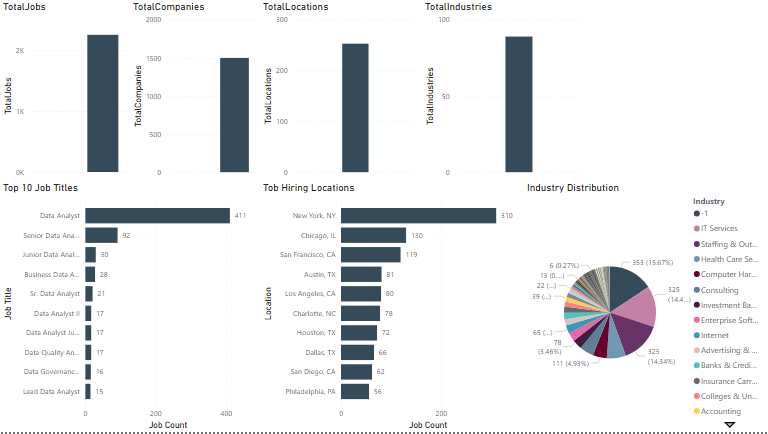

This screenshot's page, from the dashboard's own definition file:
{"tool":"powerbi","page":{"name":"Page 1","canvas":[1280,720],"ordinal":0},"visuals":[{"type":"cardVisual","box":[10,0,280,280],"z":0},{"type":"clusteredColumnChart","fields":{"Y":["Sheet1.TotalJobs"]},"box":[0,0,300.7,300.7],"z":1000},{"type":"clusteredColumnChart","fields":{"Y":["Sheet1.TotalCompanies"]},"box":[216.6,0,294,301.1],"z":2000},{"type":"clusteredColumnChart","fields":{"Y":["Sheet1.TotalLocations"]},"box":[433.1,0,269.4,301.1],"z":3000},{"type":"clusteredColumnChart","fields":{"Y":["Sheet1.TotalIndustries"]},"box":[702.5,0,274.7,301.1],"z":4000},{"type":"clusteredBarChart","title":"Top 10 Job Titles","fields":{"Category":["Sheet1.Job Title"],"Y":["Sheet1.TotalJobs"]},"box":[0,301.1,433.1,419],"z":5000},{"type":"clusteredBarChart","title":"Tob Hiring Locations","fields":{"Category":["Sheet1.Location"],"Y":["Sheet1.TotalJobs"]},"box":[433.1,301.1,440.2,419],"z":6000},{"type":"pieChart","title":"Industry Distribution","fields":{"Category":["Sheet1.Industry"],"Y":["Sheet1.TotalJobs"]},"box":[873.3,301.1,406.7,419],"z":7000}]}

Visuals, with their boxes in screenshot pixels (x1, y1, x2, y2), scaled from the page's 1280x720 canvas onto the 768x434 screenshot:
cardVisual: box=[6, 0, 174, 169]
clusteredColumnChart - Sheet1.TotalJobs: box=[0, 0, 180, 181]
clusteredColumnChart - Sheet1.TotalCompanies: box=[130, 0, 306, 181]
clusteredColumnChart - Sheet1.TotalLocations: box=[260, 0, 422, 181]
clusteredColumnChart - Sheet1.TotalIndustries: box=[422, 0, 586, 181]
"Top 10 Job Titles" clusteredBarChart: box=[0, 181, 260, 433]
"Tob Hiring Locations" clusteredBarChart: box=[260, 181, 524, 433]
"Industry Distribution" pieChart: box=[524, 181, 767, 433]
